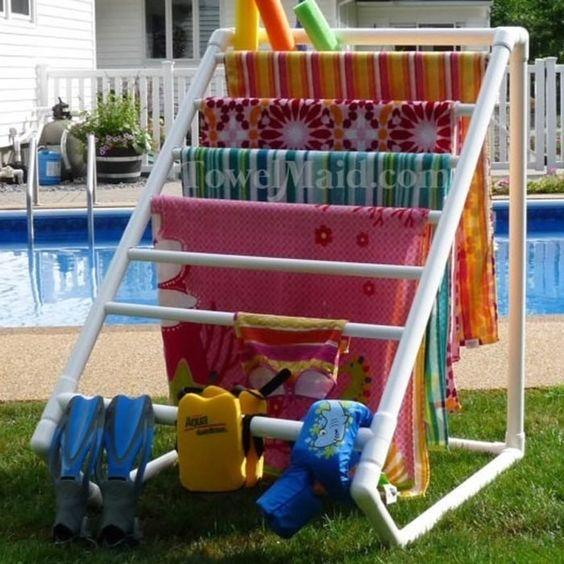PVC: (504, 22, 531, 459), (111, 246, 432, 282), (94, 296, 226, 333), (344, 22, 491, 52), (472, 56, 497, 148), (352, 316, 419, 349), (457, 465, 498, 501), (256, 416, 300, 443)
